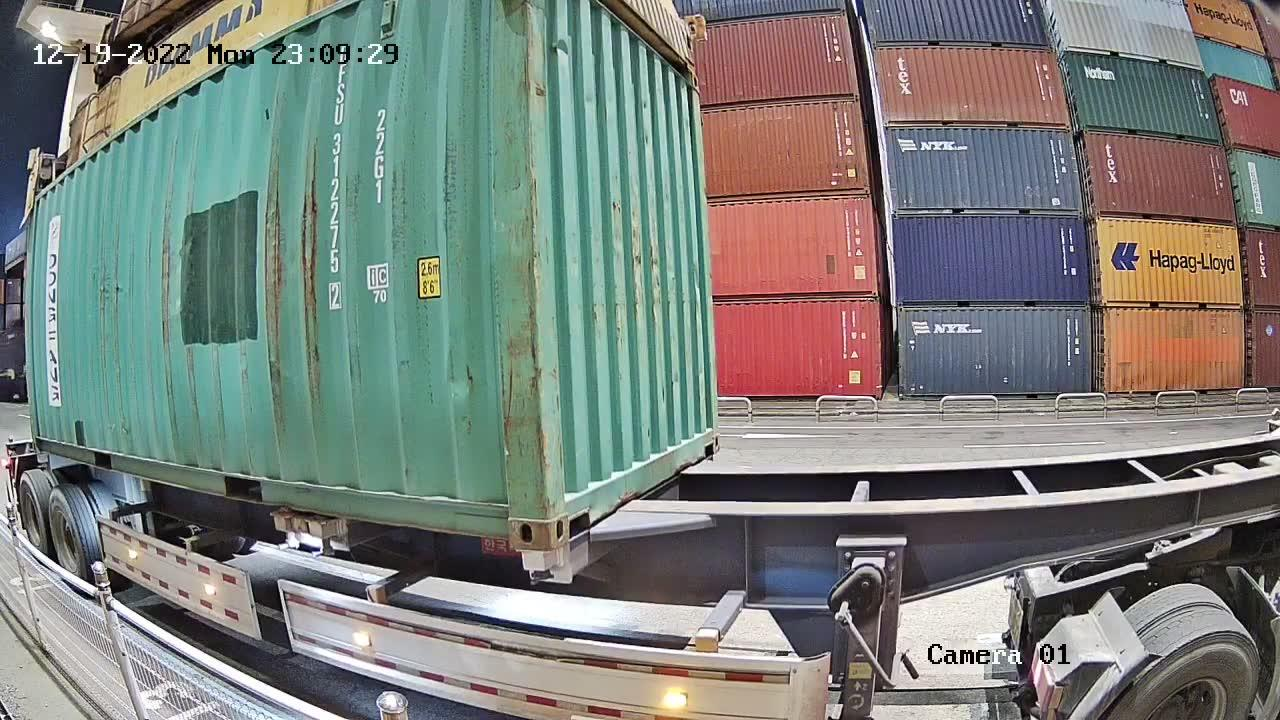Chassis: (549, 453, 719, 582)
Cone: (515, 548, 561, 586)
Hole_L: (545, 471, 593, 549)
Hole_R: (475, 477, 549, 550), (694, 412, 722, 460)
Tire: (49, 492, 91, 585), (20, 478, 45, 550)
